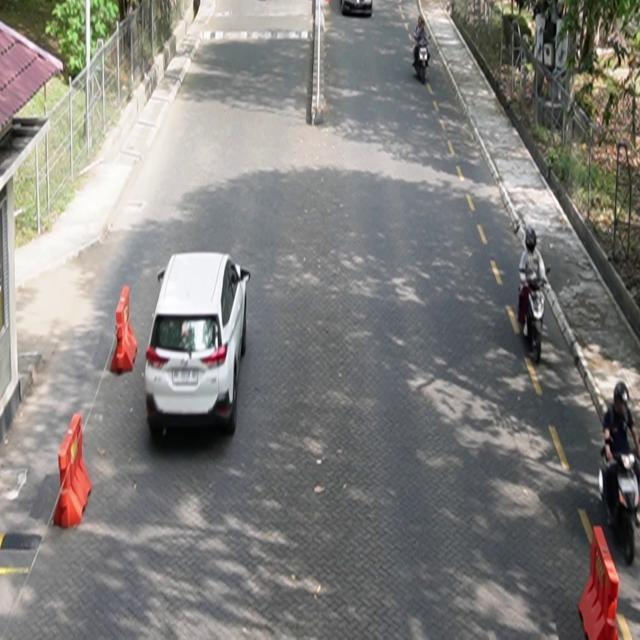car: (145, 251, 251, 439)
